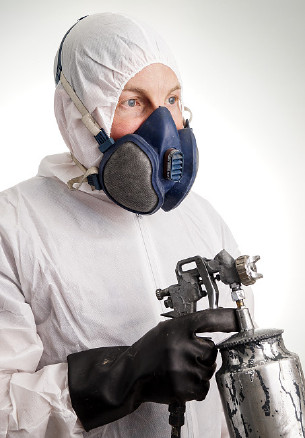face_mask: (103, 54, 190, 199)
